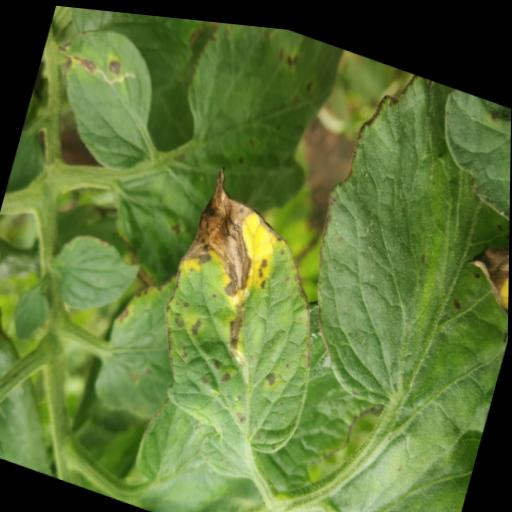Early Blight: (126, 145, 360, 502)
